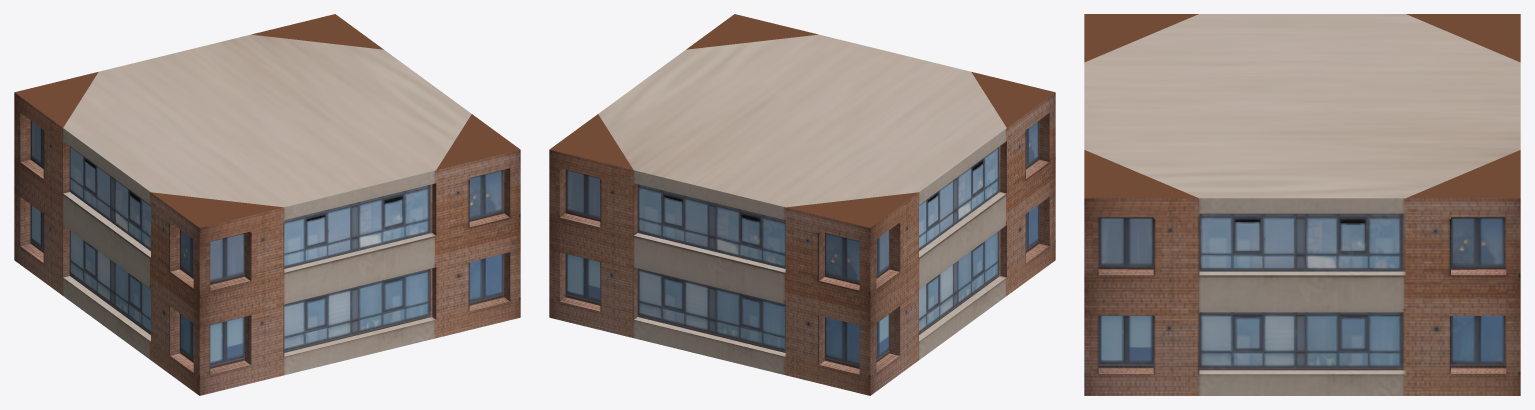
Rendered from BG_Building3_small.fbx.
The picture shows the model from 3 angles, left to right: view 1: azimuth 30°, elevation 25°; view 2: azimuth 150°, elevation 25°; view 3: azimuth 270°, elevation 25°; orthographic projection. The views are drawn at different scales.
Visible parts, largest first — view 1: BG_Building3_small; view 2: BG_Building3_small; view 3: BG_Building3_small.
Boxes of the visible parts, bbox=[...] form: BG_Building3_small: bbox=[14, 14, 520, 395]; BG_Building3_small: bbox=[549, 14, 1055, 395]; BG_Building3_small: bbox=[1084, 14, 1520, 395].
Size of the model in its own units: 801 by 401 by 801.
